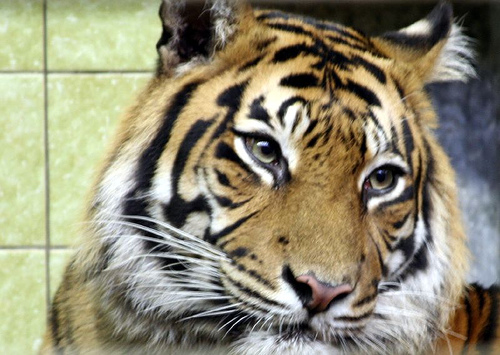Tigre: (123, 14, 465, 331)
